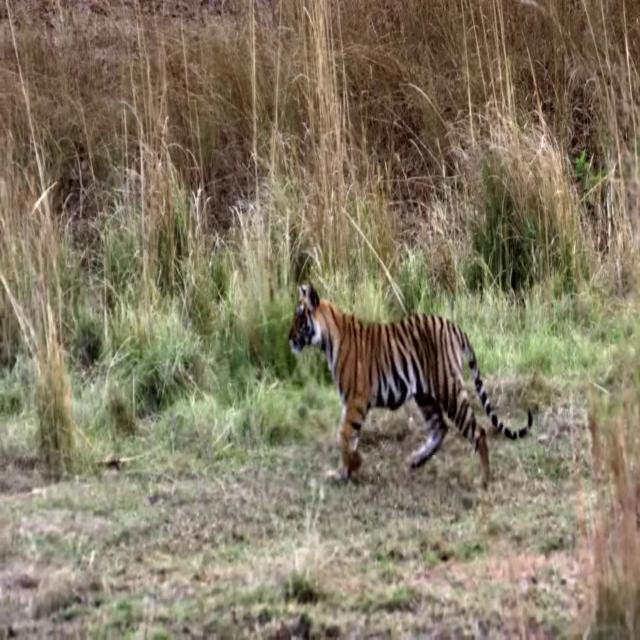tiger: (287, 279, 534, 489)
